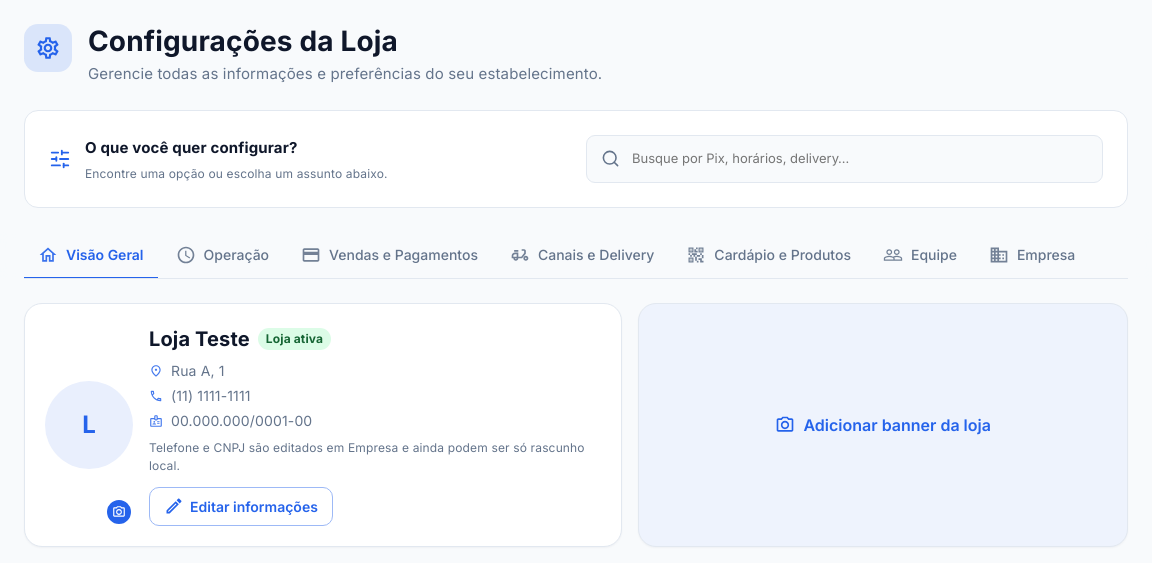
Test: Settings page navigation › abre Empresa pelo grupo
Click the tab "Empresa".
click(1032, 256)  # box [975,232,1089,279]
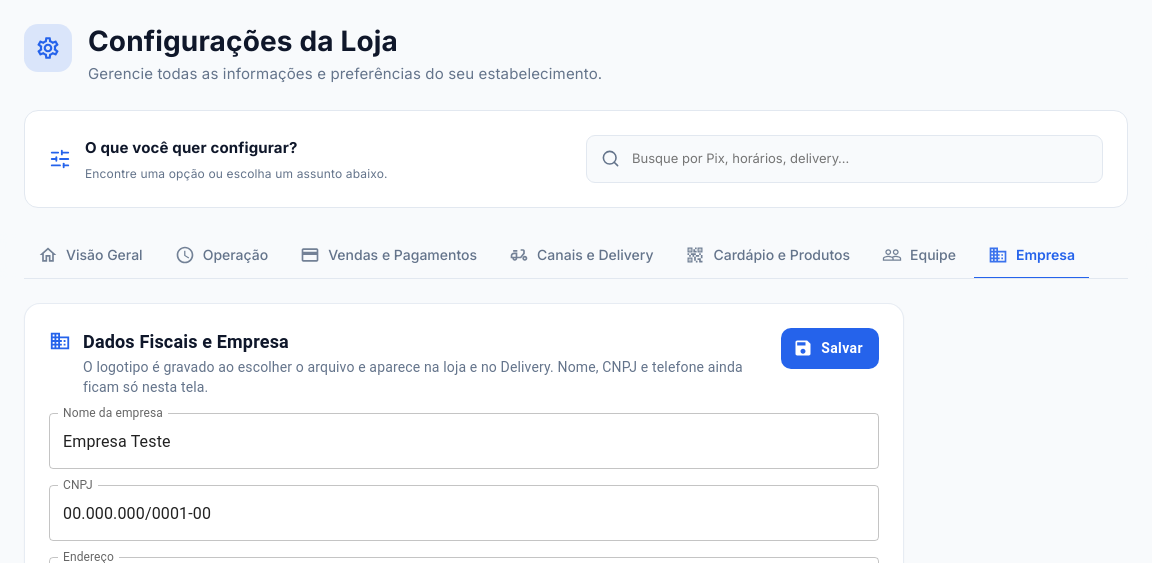
Check: the heading "Dados Fiscais e Empresa" is shown, box [83,331,289,352]
